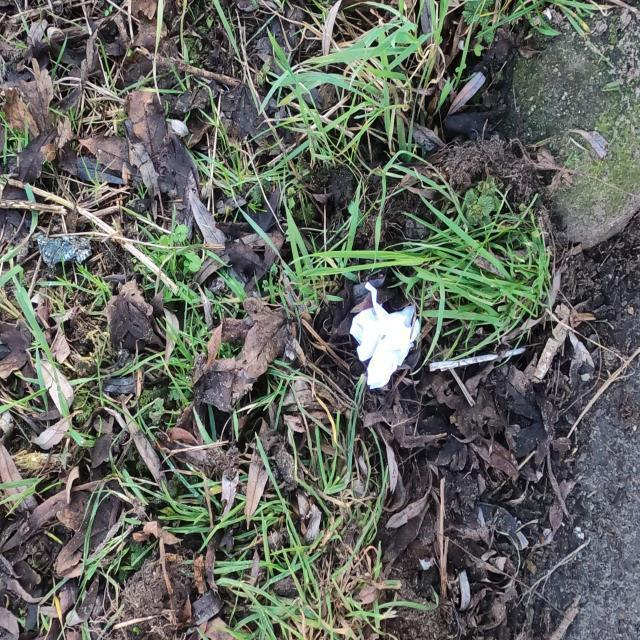Paper: (348, 281, 421, 390)
